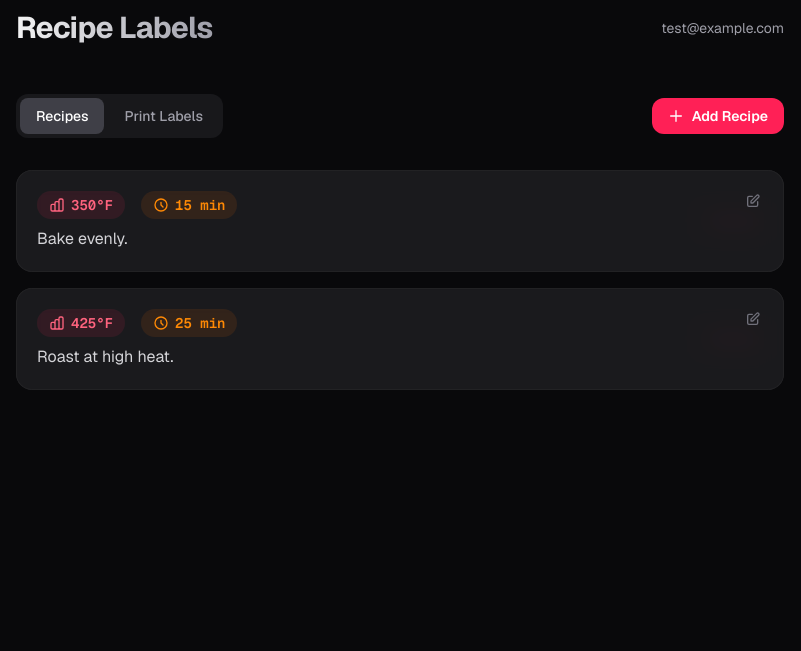
Test case: RecipeDashboard › hides the form and switches to list tab when cancel is clicked
This screenshot has width=801, height=651.
Click the button "Add Recipe" at (718, 116), box [652,98,784,134]
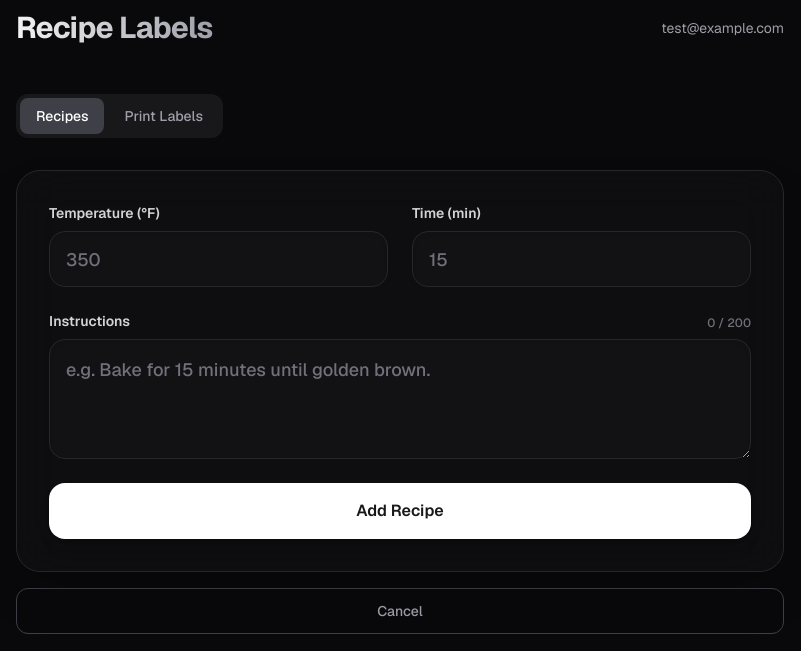
Click the button "Cancel" at (400, 611), box [16,588,784,634]
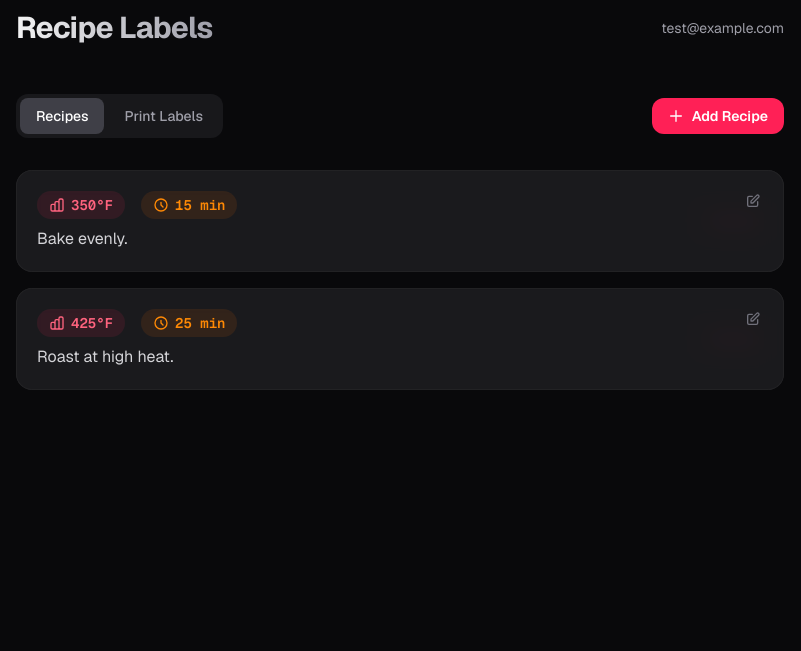
Result: the text labelled "Temperature" is gone
